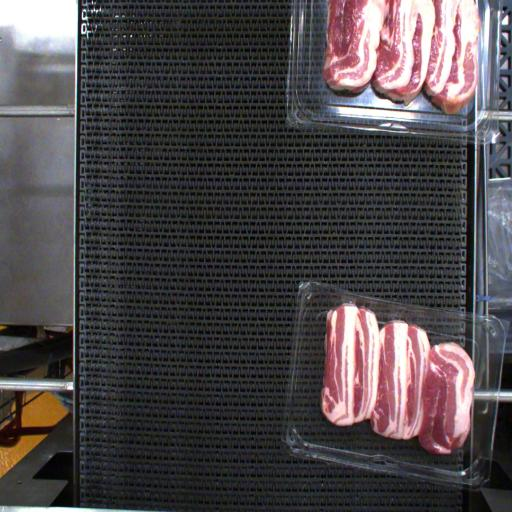packaging-error: (336, 287, 366, 315)
